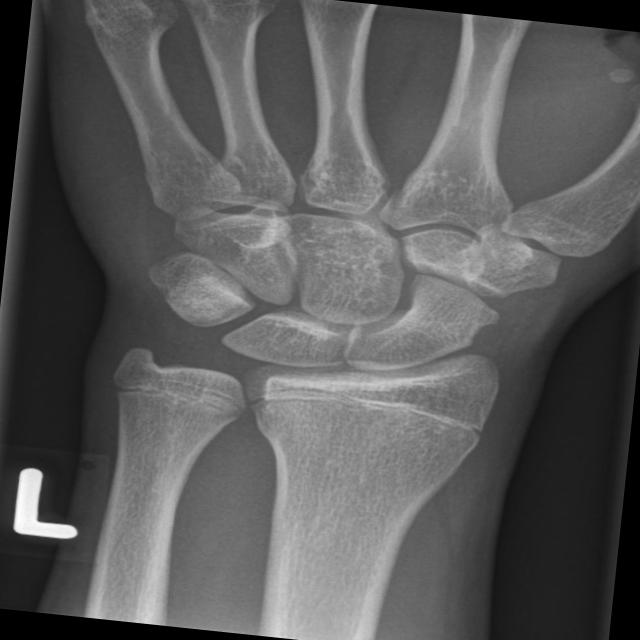fracture: (238, 370, 508, 456), (104, 364, 268, 426)
